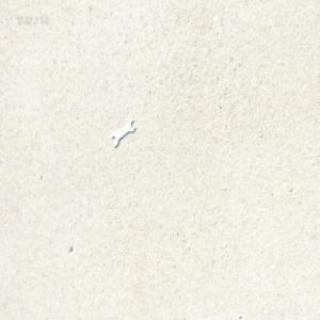Wrenchtrack_idkeyframe: (110, 116, 134, 146)
